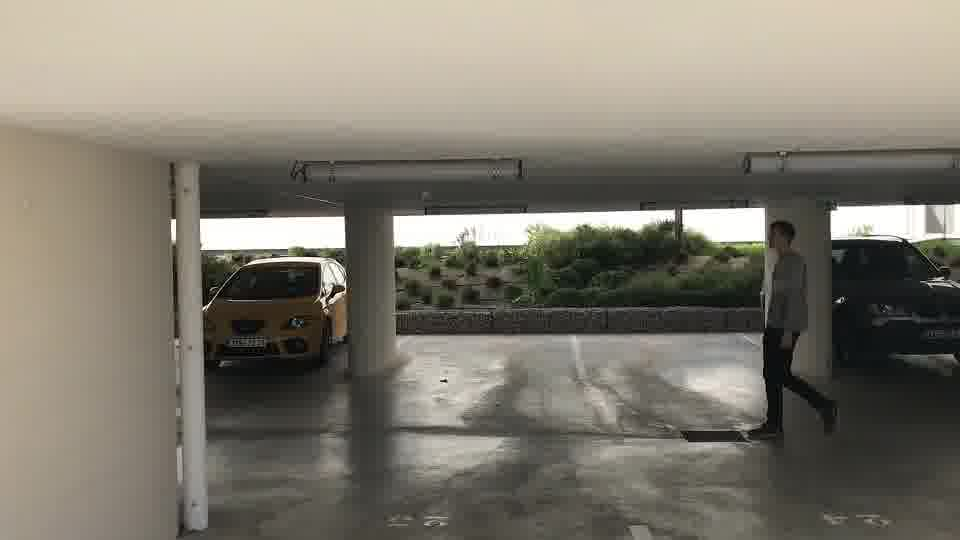jugador: (735, 216, 840, 455)
